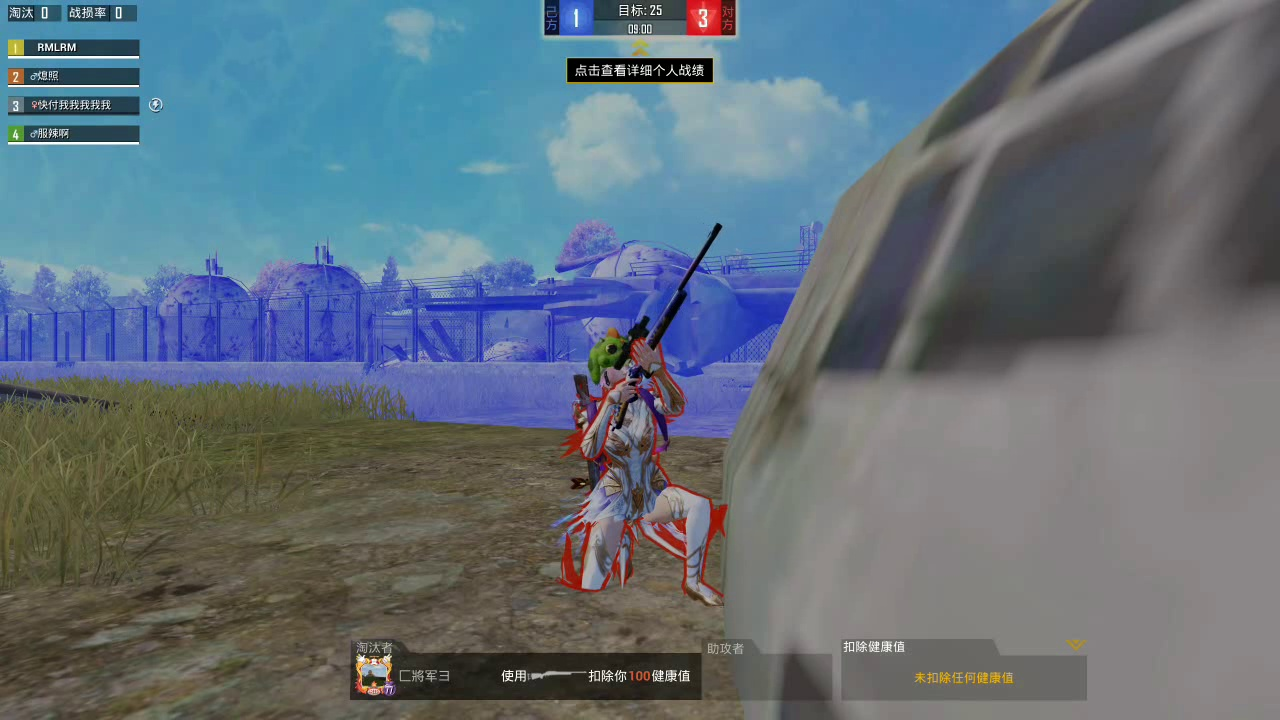enemy: (565, 331, 709, 596)
